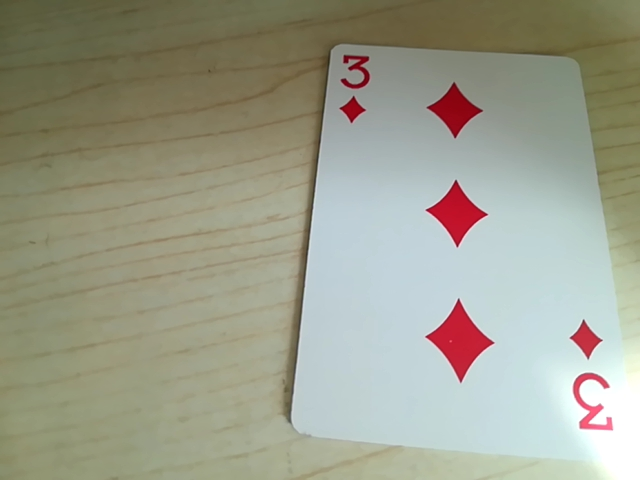fk 3: (561, 330, 619, 450), (329, 47, 374, 122)
